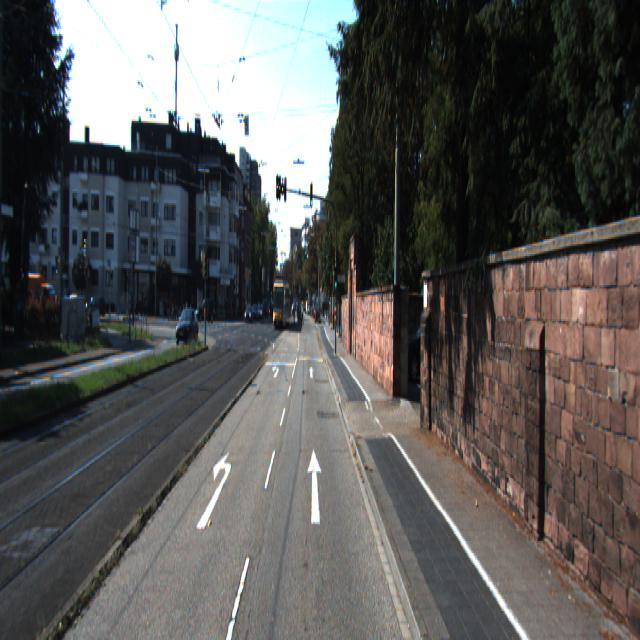Car: (174, 309, 198, 346)
